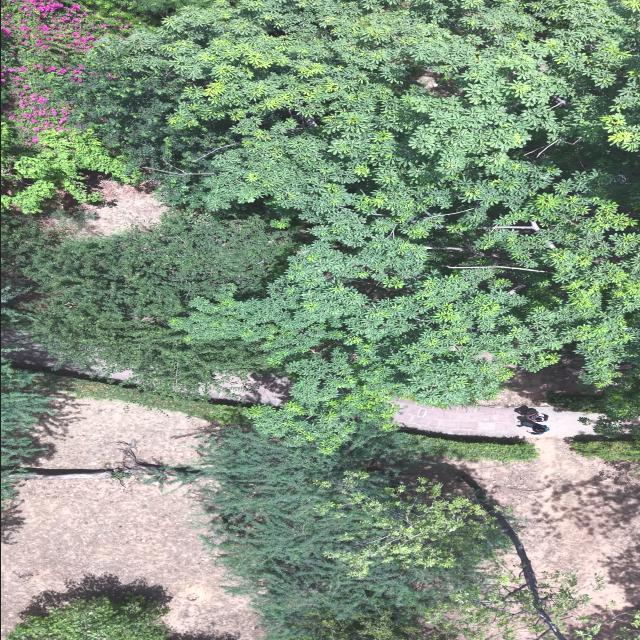DRY_AREA: (397, 369, 639, 610), (396, 369, 639, 609), (396, 369, 639, 606), (395, 398, 639, 612), (1, 479, 261, 639), (1, 480, 261, 639), (1, 480, 260, 639), (1, 482, 258, 639), (456, 438, 639, 611), (395, 357, 598, 439), (394, 360, 598, 439), (395, 360, 597, 438), (395, 362, 598, 438), (395, 363, 598, 438), (394, 371, 598, 439), (39, 394, 209, 467), (394, 389, 598, 439), (476, 357, 598, 436), (42, 179, 168, 237), (43, 179, 168, 237), (43, 179, 168, 236), (477, 354, 594, 406), (69, 179, 168, 236), (477, 356, 590, 405), (394, 398, 531, 438), (476, 357, 585, 406), (394, 398, 527, 435), (84, 180, 167, 234), (1, 329, 95, 375), (1, 327, 85, 373), (200, 373, 292, 404), (204, 373, 292, 404), (248, 373, 291, 403)
PATHWAYS: (395, 398, 598, 438)
VEGETATION_TREE: (1, 0, 639, 639), (49, 0, 639, 449), (93, 0, 639, 450), (172, 175, 638, 450), (3, 425, 586, 639), (94, 0, 638, 211), (124, 424, 588, 639), (1, 214, 295, 501), (196, 425, 581, 639), (199, 427, 506, 629), (1, 0, 173, 295), (24, 213, 296, 390), (1, 0, 183, 213), (1, 357, 238, 506), (1, 0, 150, 213), (51, 48, 236, 209), (3, 0, 183, 153), (1, 48, 143, 213), (3, 0, 151, 143), (315, 471, 502, 579), (1, 357, 119, 505), (1, 214, 52, 504), (1, 436, 200, 507), (424, 557, 589, 639), (1, 120, 139, 213), (22, 372, 238, 422), (39, 373, 243, 422), (546, 366, 639, 460), (1, 356, 51, 504), (1, 211, 61, 329), (6, 596, 170, 639), (546, 366, 639, 436), (1, 355, 51, 464), (1, 465, 126, 503), (386, 430, 538, 461), (1, 211, 59, 280), (287, 611, 429, 639), (575, 609, 639, 639), (567, 435, 639, 461), (123, 0, 186, 16)
